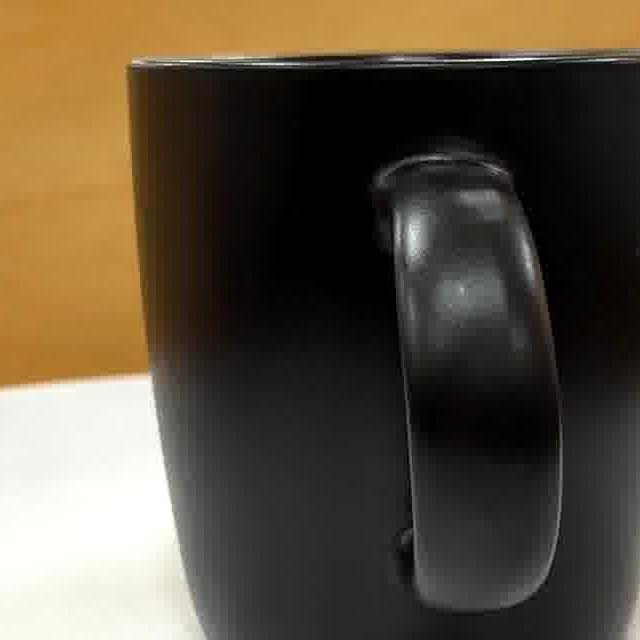cup: (133, 55, 640, 640)
